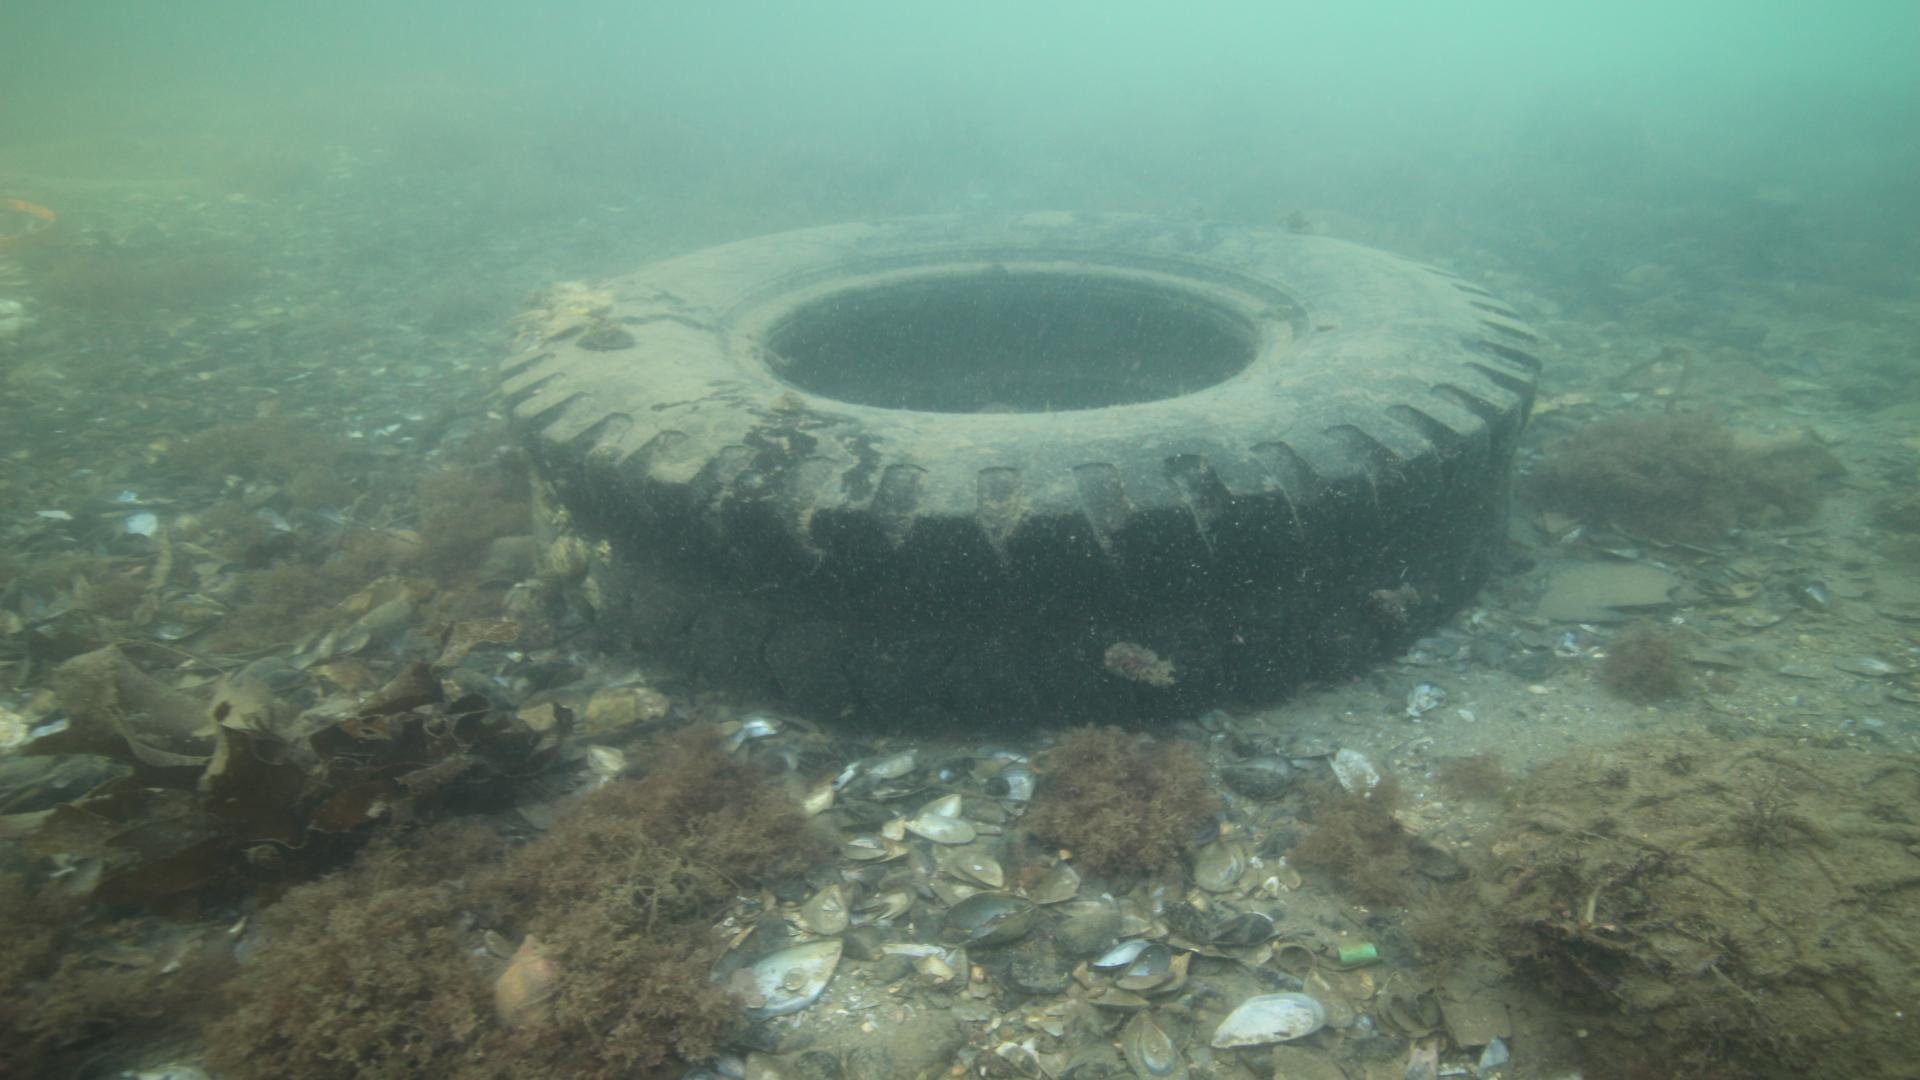tire: (493, 208, 1545, 735)
